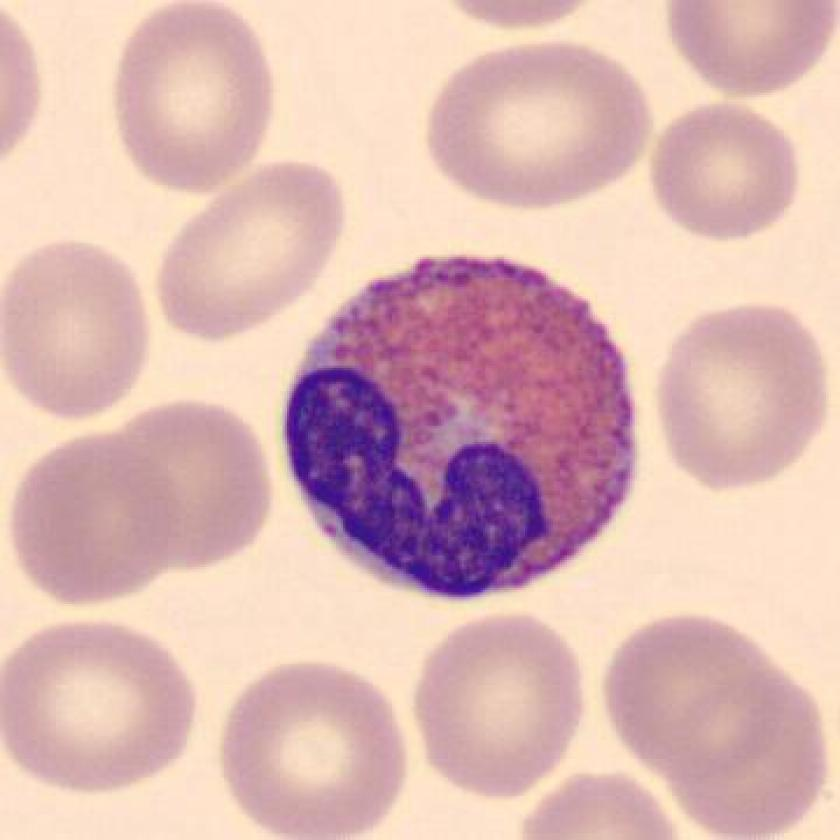eosinophil: (270, 244, 648, 612)
